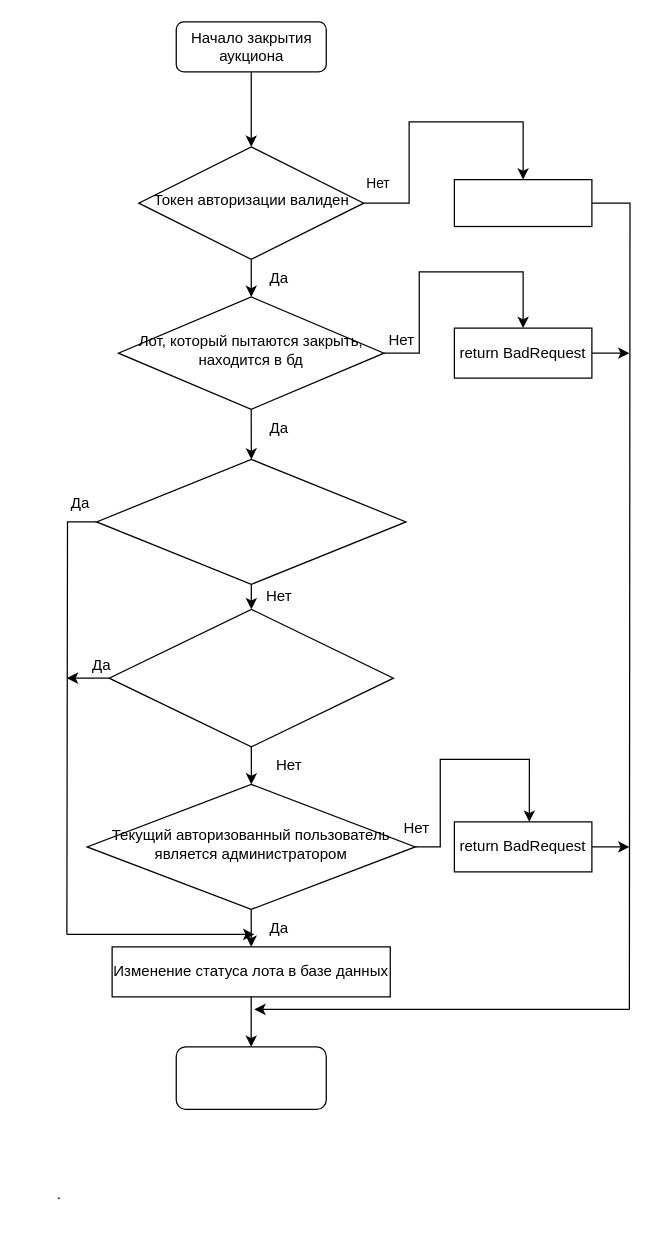
This 661x1244 diagram has some shape labels left out. The centre of each missing label's shape, as x and y in pixels:
"return Unauthorized" goes at pixel 522 202.
"Данный лот принадлежит текущему авторизлванному пользователю" goes at pixel 250 521.
"Окончание закрытия аукциона" goes at pixel 250 1077.
"Текущий авторизованный пользователь является сотрудником" goes at pixel 251 677.
